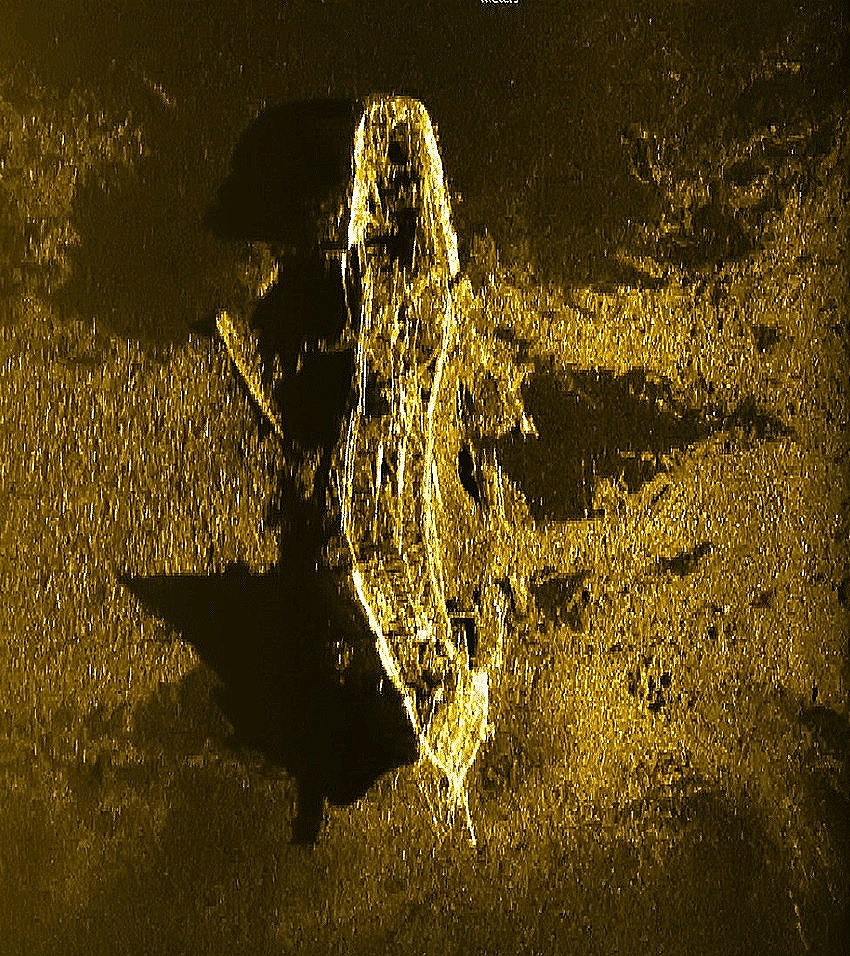ship: (334, 91, 511, 848)
